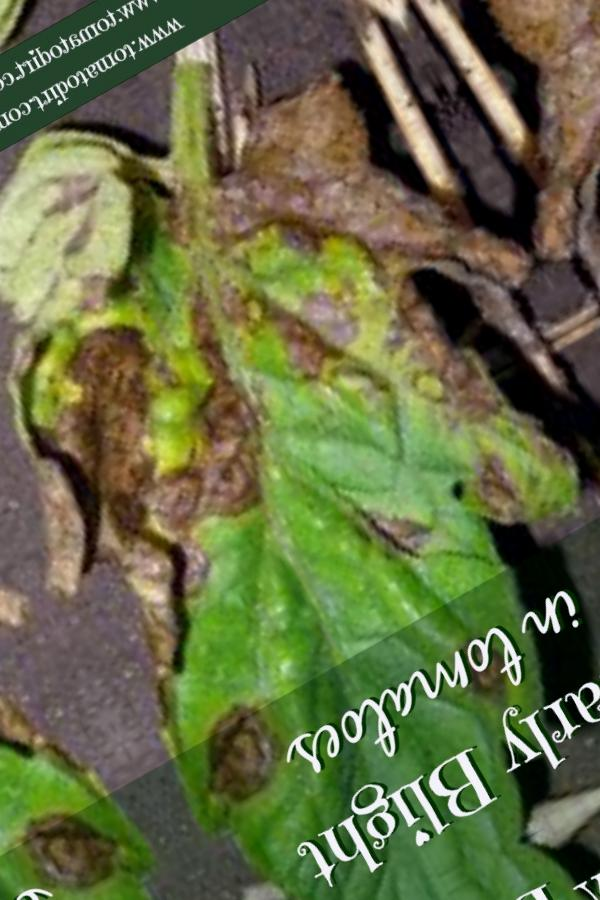Tomato Early blight leaf: (0, 25, 600, 900)
